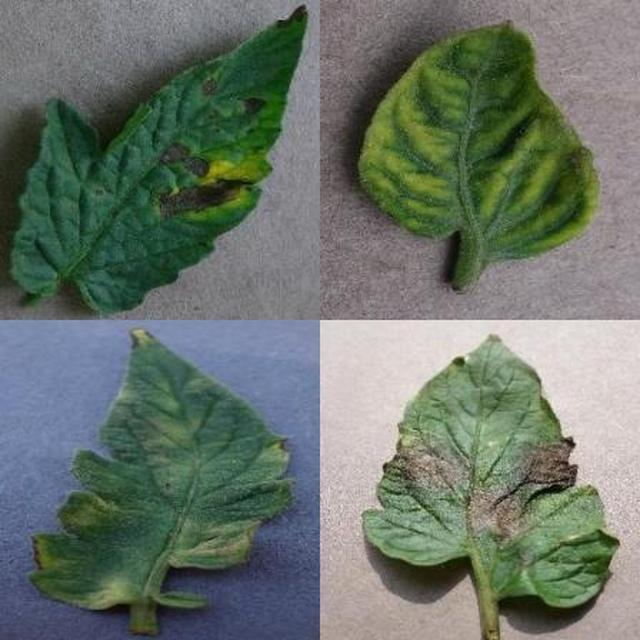Early Blight Leaf: (228, 203, 640, 640)
